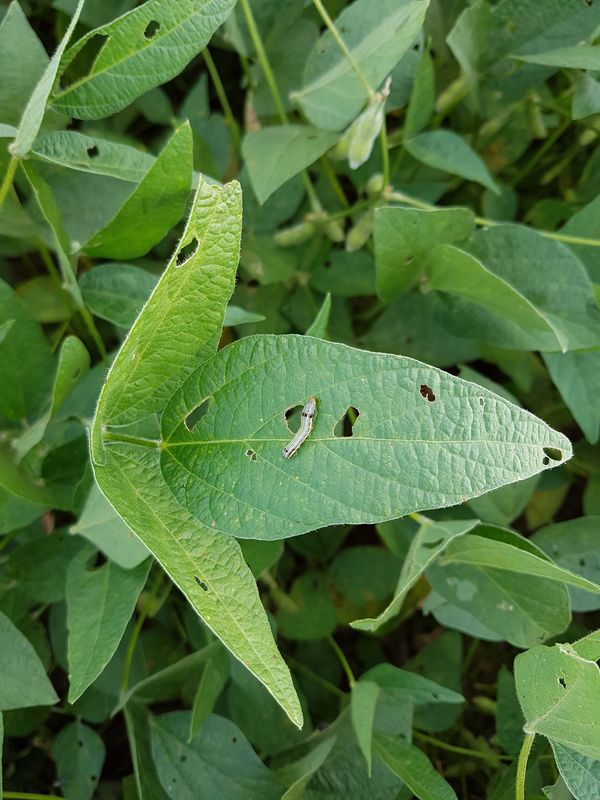Spodoptera_albula: (277, 391, 324, 465)
